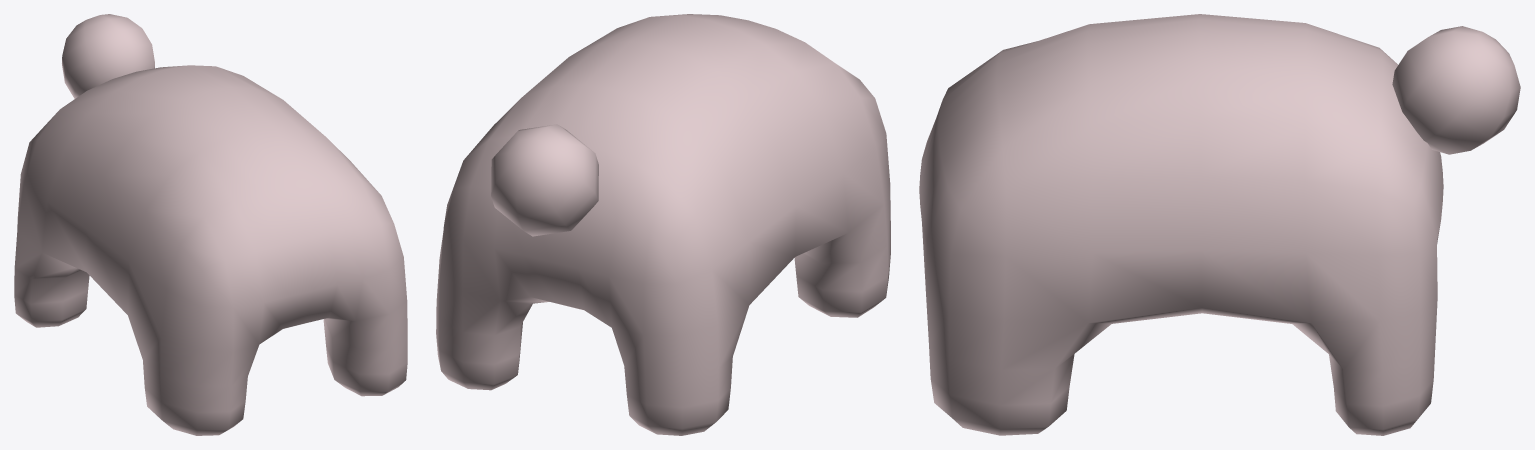
Rendered from rabbitbody.fbx.
3 views of the same model, side by side, from view 1: azimuth 30°, elevation 25°; view 2: azimuth 150°, elevation 25°; view 3: azimuth 270°, elevation 25° (orthographic). The views are drawn at different scales.
Visible parts, largest first — view 1: rabbit_body; view 2: rabbit_body; view 3: rabbit_body.
Part boxes in pixels (bbox=[...]): rabbit_body: bbox=[14, 14, 407, 435]; rabbit_body: bbox=[436, 14, 890, 435]; rabbit_body: bbox=[919, 14, 1520, 435].
Size of the model in its own units: 37.53 by 38.18 by 61.44.
